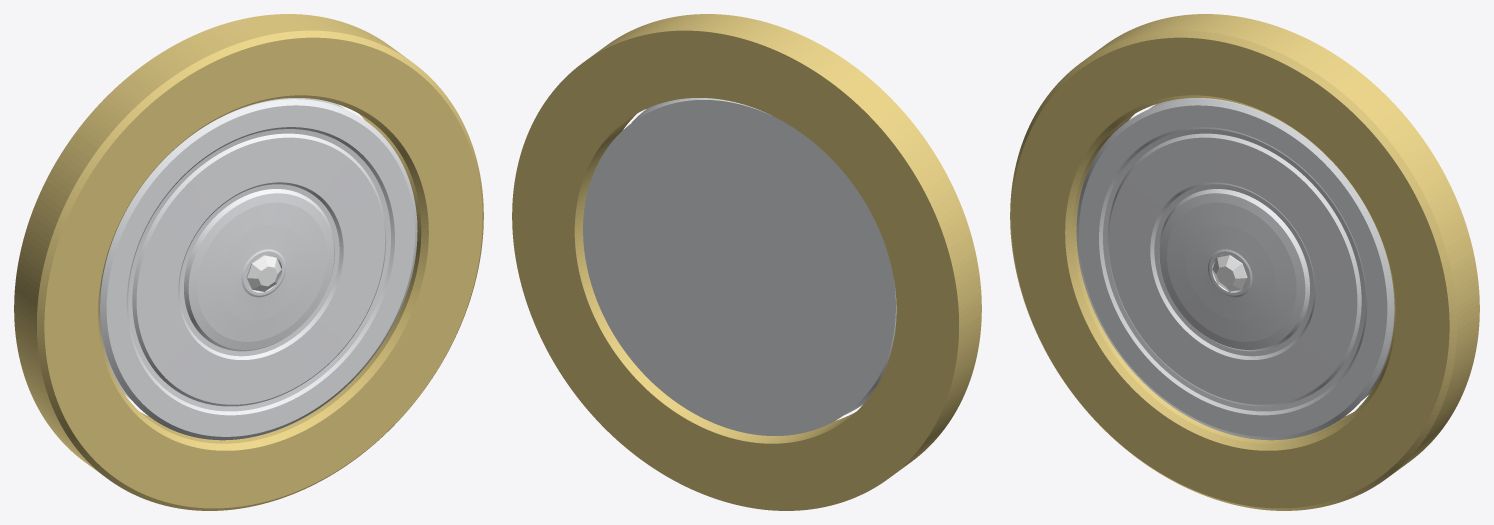
Rendered from diamond_badge.glb.
The picture shows the model from 3 angles, left to right: view 1: azimuth 30°, elevation 25°; view 2: azimuth 150°, elevation 25°; view 3: azimuth 330°, elevation 25°; orthographic projection.
Visible parts, largest first — view 1: gold_ring, silver_plate, diamond; view 2: gold_ring, silver_plate; view 3: gold_ring, silver_plate, diamond.
Boxes of the visible parts, x1,y1,x2,y2 form: gold_ring: [14, 14, 483, 510]; silver_plate: [99, 98, 417, 440]; diamond: [246, 255, 281, 291]; gold_ring: [512, 14, 981, 510]; silver_plate: [583, 98, 896, 435]; gold_ring: [1010, 14, 1479, 510]; silver_plate: [1076, 98, 1394, 440]; diamond: [1212, 255, 1247, 291].
Size of the model in its own units: 100 by 100 by 11.79.
